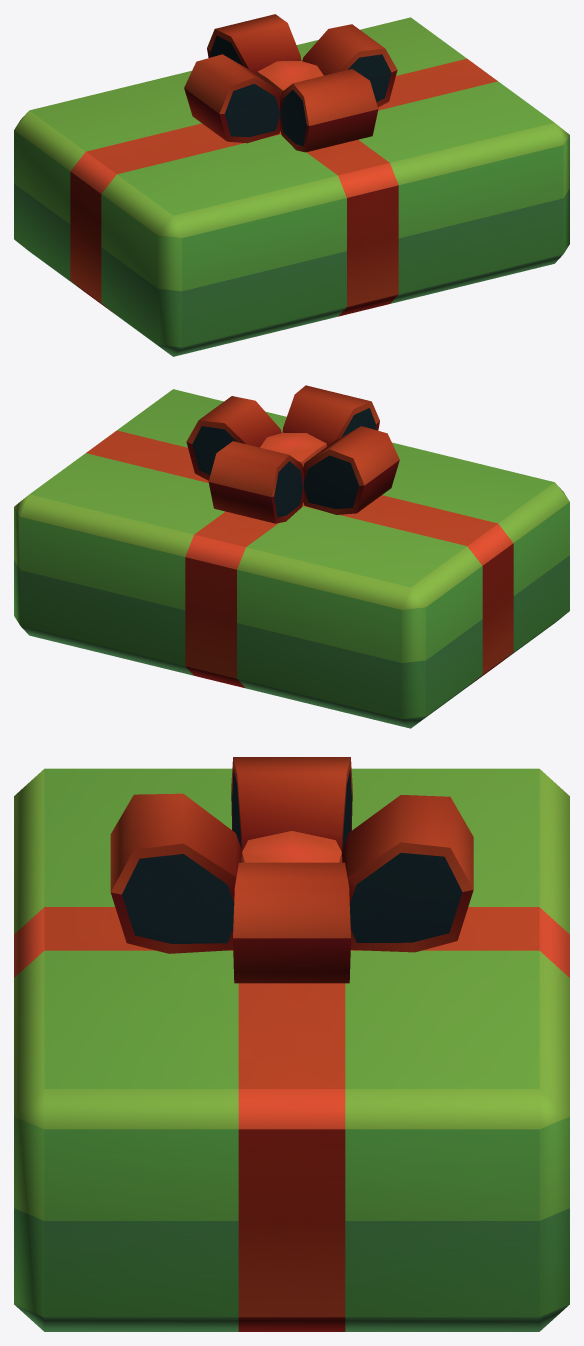
File: presi_square_2_green.fbx
3 renders of one model, top to bottom at view 1: azimuth 30°, elevation 25°; view 2: azimuth 150°, elevation 25°; view 3: azimuth 270°, elevation 25°, orthographic. The views are drawn at different scales.
Visible parts, largest first — view 1: presi_square_2_green; view 2: presi_square_2_green; view 3: presi_square_2_green.
Boxes of the visible parts, x1,y1,x2,y2 form: presi_square_2_green: (14,14,569,356); presi_square_2_green: (14,385,569,728); presi_square_2_green: (14,757,569,1331).
Bounding box in the file's own units: 156 × 74 × 106.
1 material, 1 textured.
